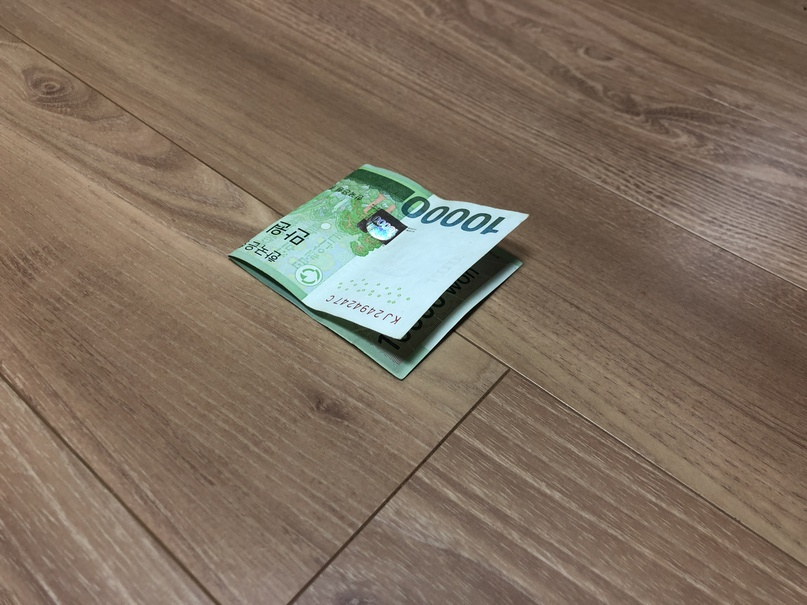10000won: (227, 164, 530, 382)
